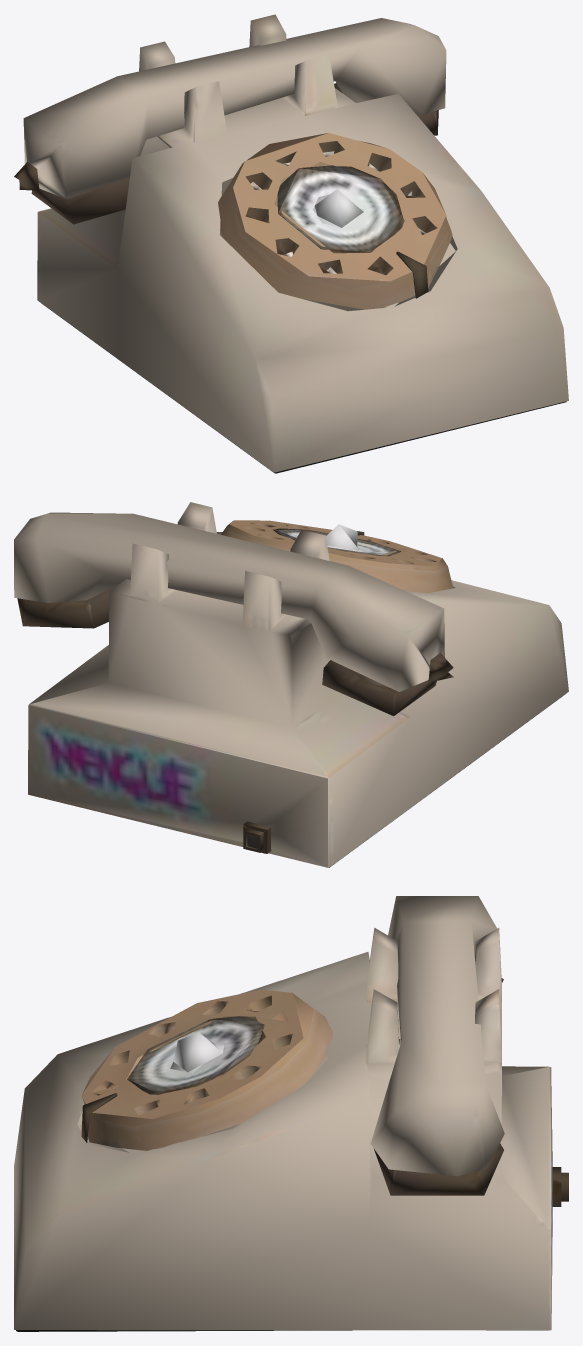
File: Telephone1.glb
3 renders of one model, top to bottom at view 1: azimuth 30°, elevation 25°; view 2: azimuth 150°, elevation 25°; view 3: azimuth 270°, elevation 25°, orthographic. The views are drawn at different scales.
Parts seen in each view (by area): view 1: Obj3d66-8607684-4-436; view 2: Obj3d66-8607684-4-436; view 3: Obj3d66-8607684-4-436.
Boxes of the visible parts, x1=… form: Obj3d66-8607684-4-436: x1=14, y1=14, x2=568, y2=473; Obj3d66-8607684-4-436: x1=14, y1=502, x2=568, y2=867; Obj3d66-8607684-4-436: x1=14, y1=896, x2=568, y2=1331.
Bounding box in the file's own units: 0.6826 × 0.3948 × 0.6885.
Materials: 1 (1 with a texture image).
